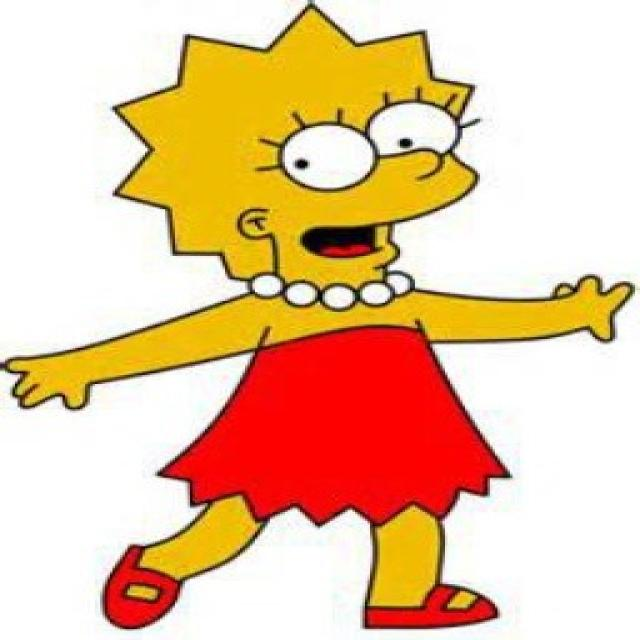Lisa Simpson: (105, 2, 485, 314)
